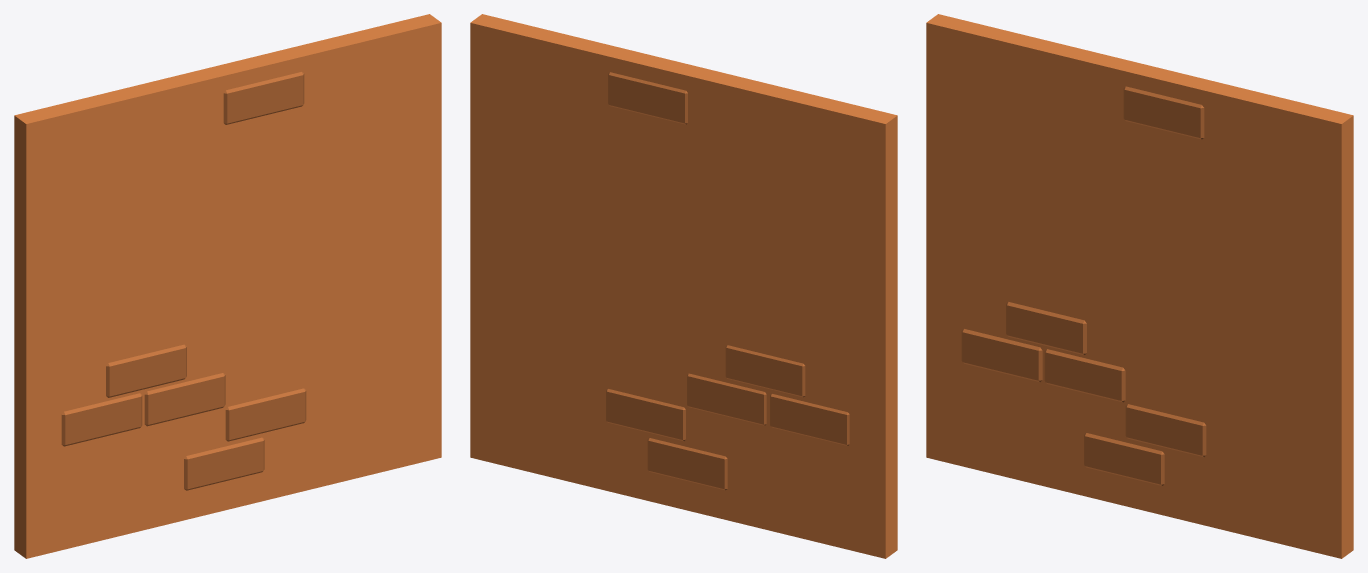
The model's file is wall2.fbx.
3 renders of one model, left to right at view 1: azimuth 30°, elevation 25°; view 2: azimuth 150°, elevation 25°; view 3: azimuth 330°, elevation 25°, orthographic.
Visible parts, largest first — view 1: Wall - Blank.002; view 2: Wall - Blank.002; view 3: Wall - Blank.002.
Boxes of the visible parts, <box> form: Wall - Blank.002: <box>14,14,441,558</box>; Wall - Blank.002: <box>470,14,897,558</box>; Wall - Blank.002: <box>926,14,1353,558</box>.
Bounding box in the file's own units: 400 × 24.2 × 400.
